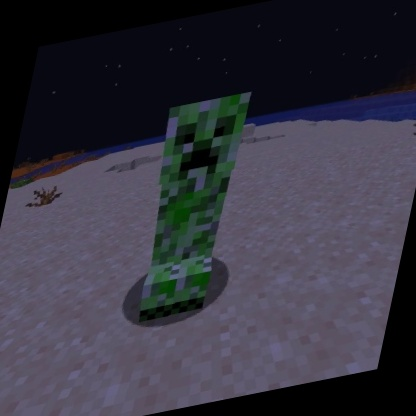creeper: (119, 86, 259, 331)
